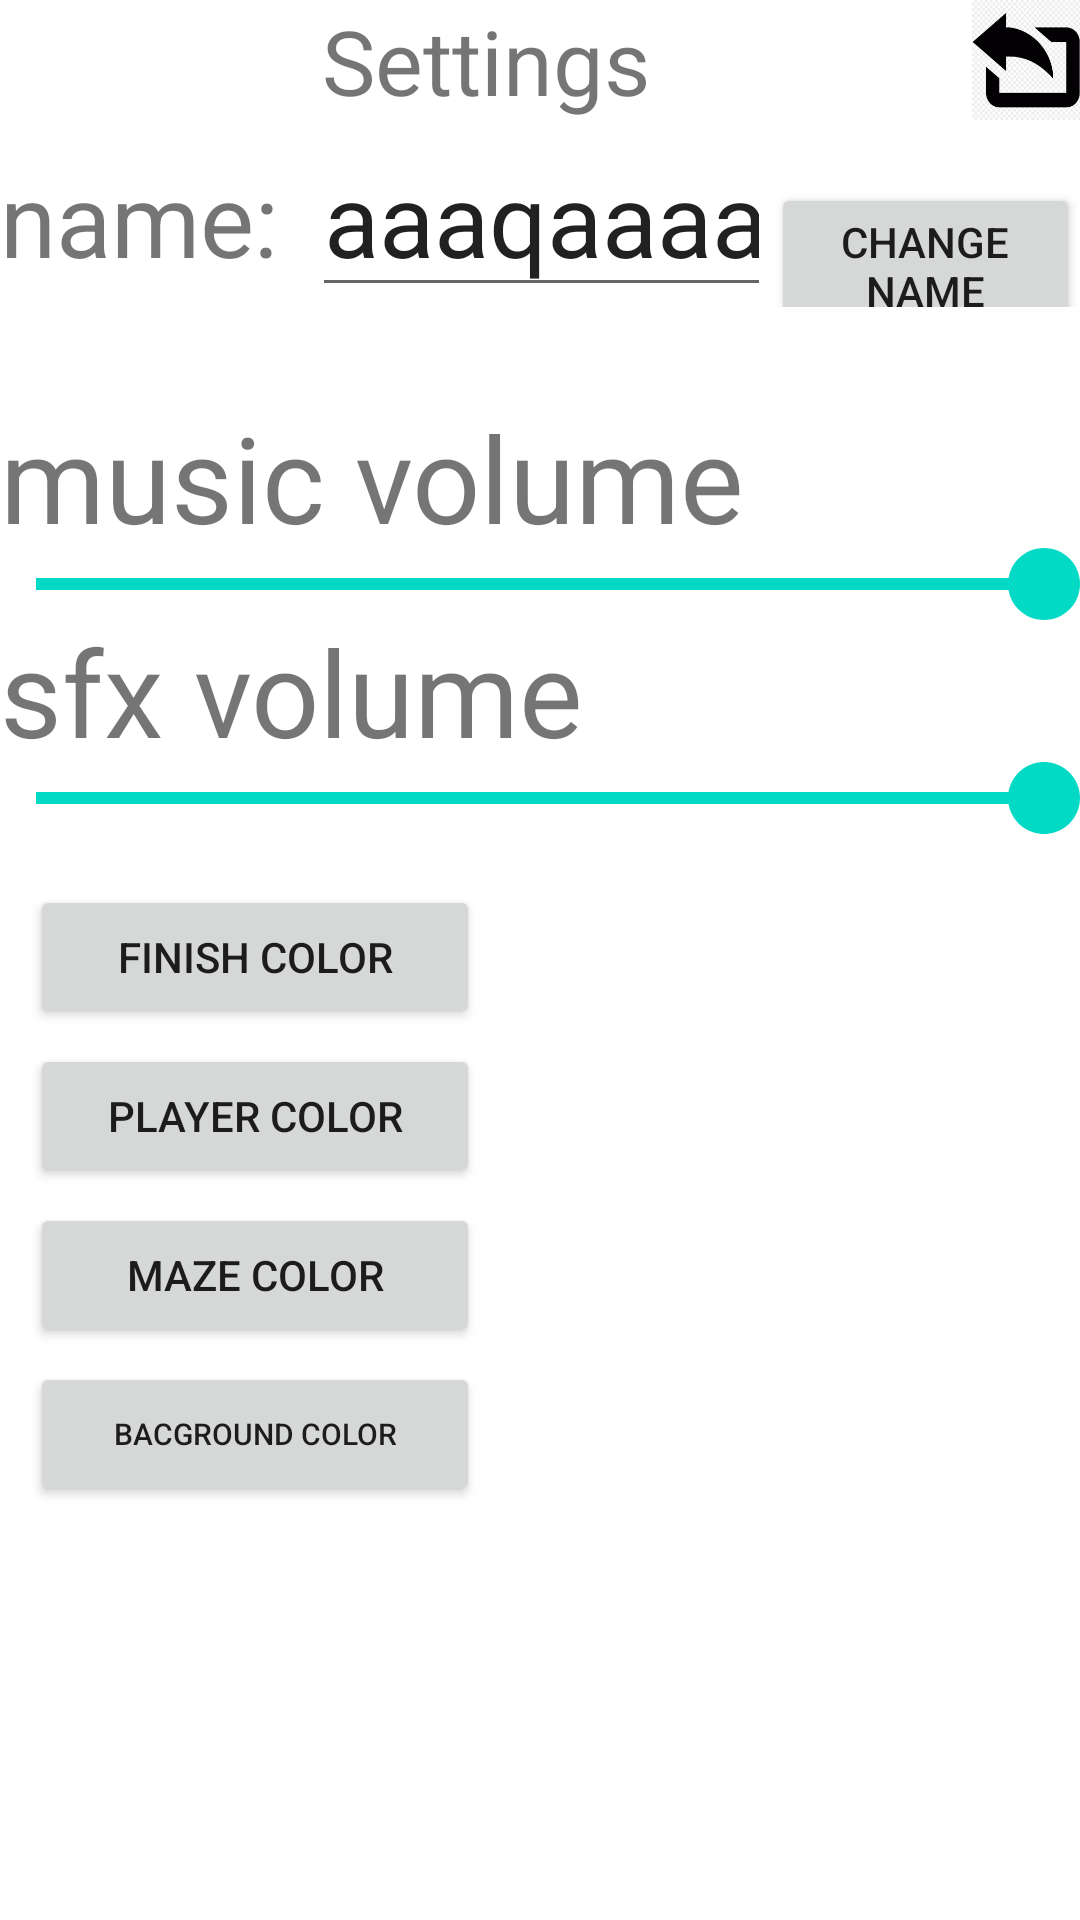

Icon bounding boxes for this 1080px×1920px phone screenshot, format bbox(x1, y1, x2, y2):
backbutton: bbox(973, 13, 1080, 108)
